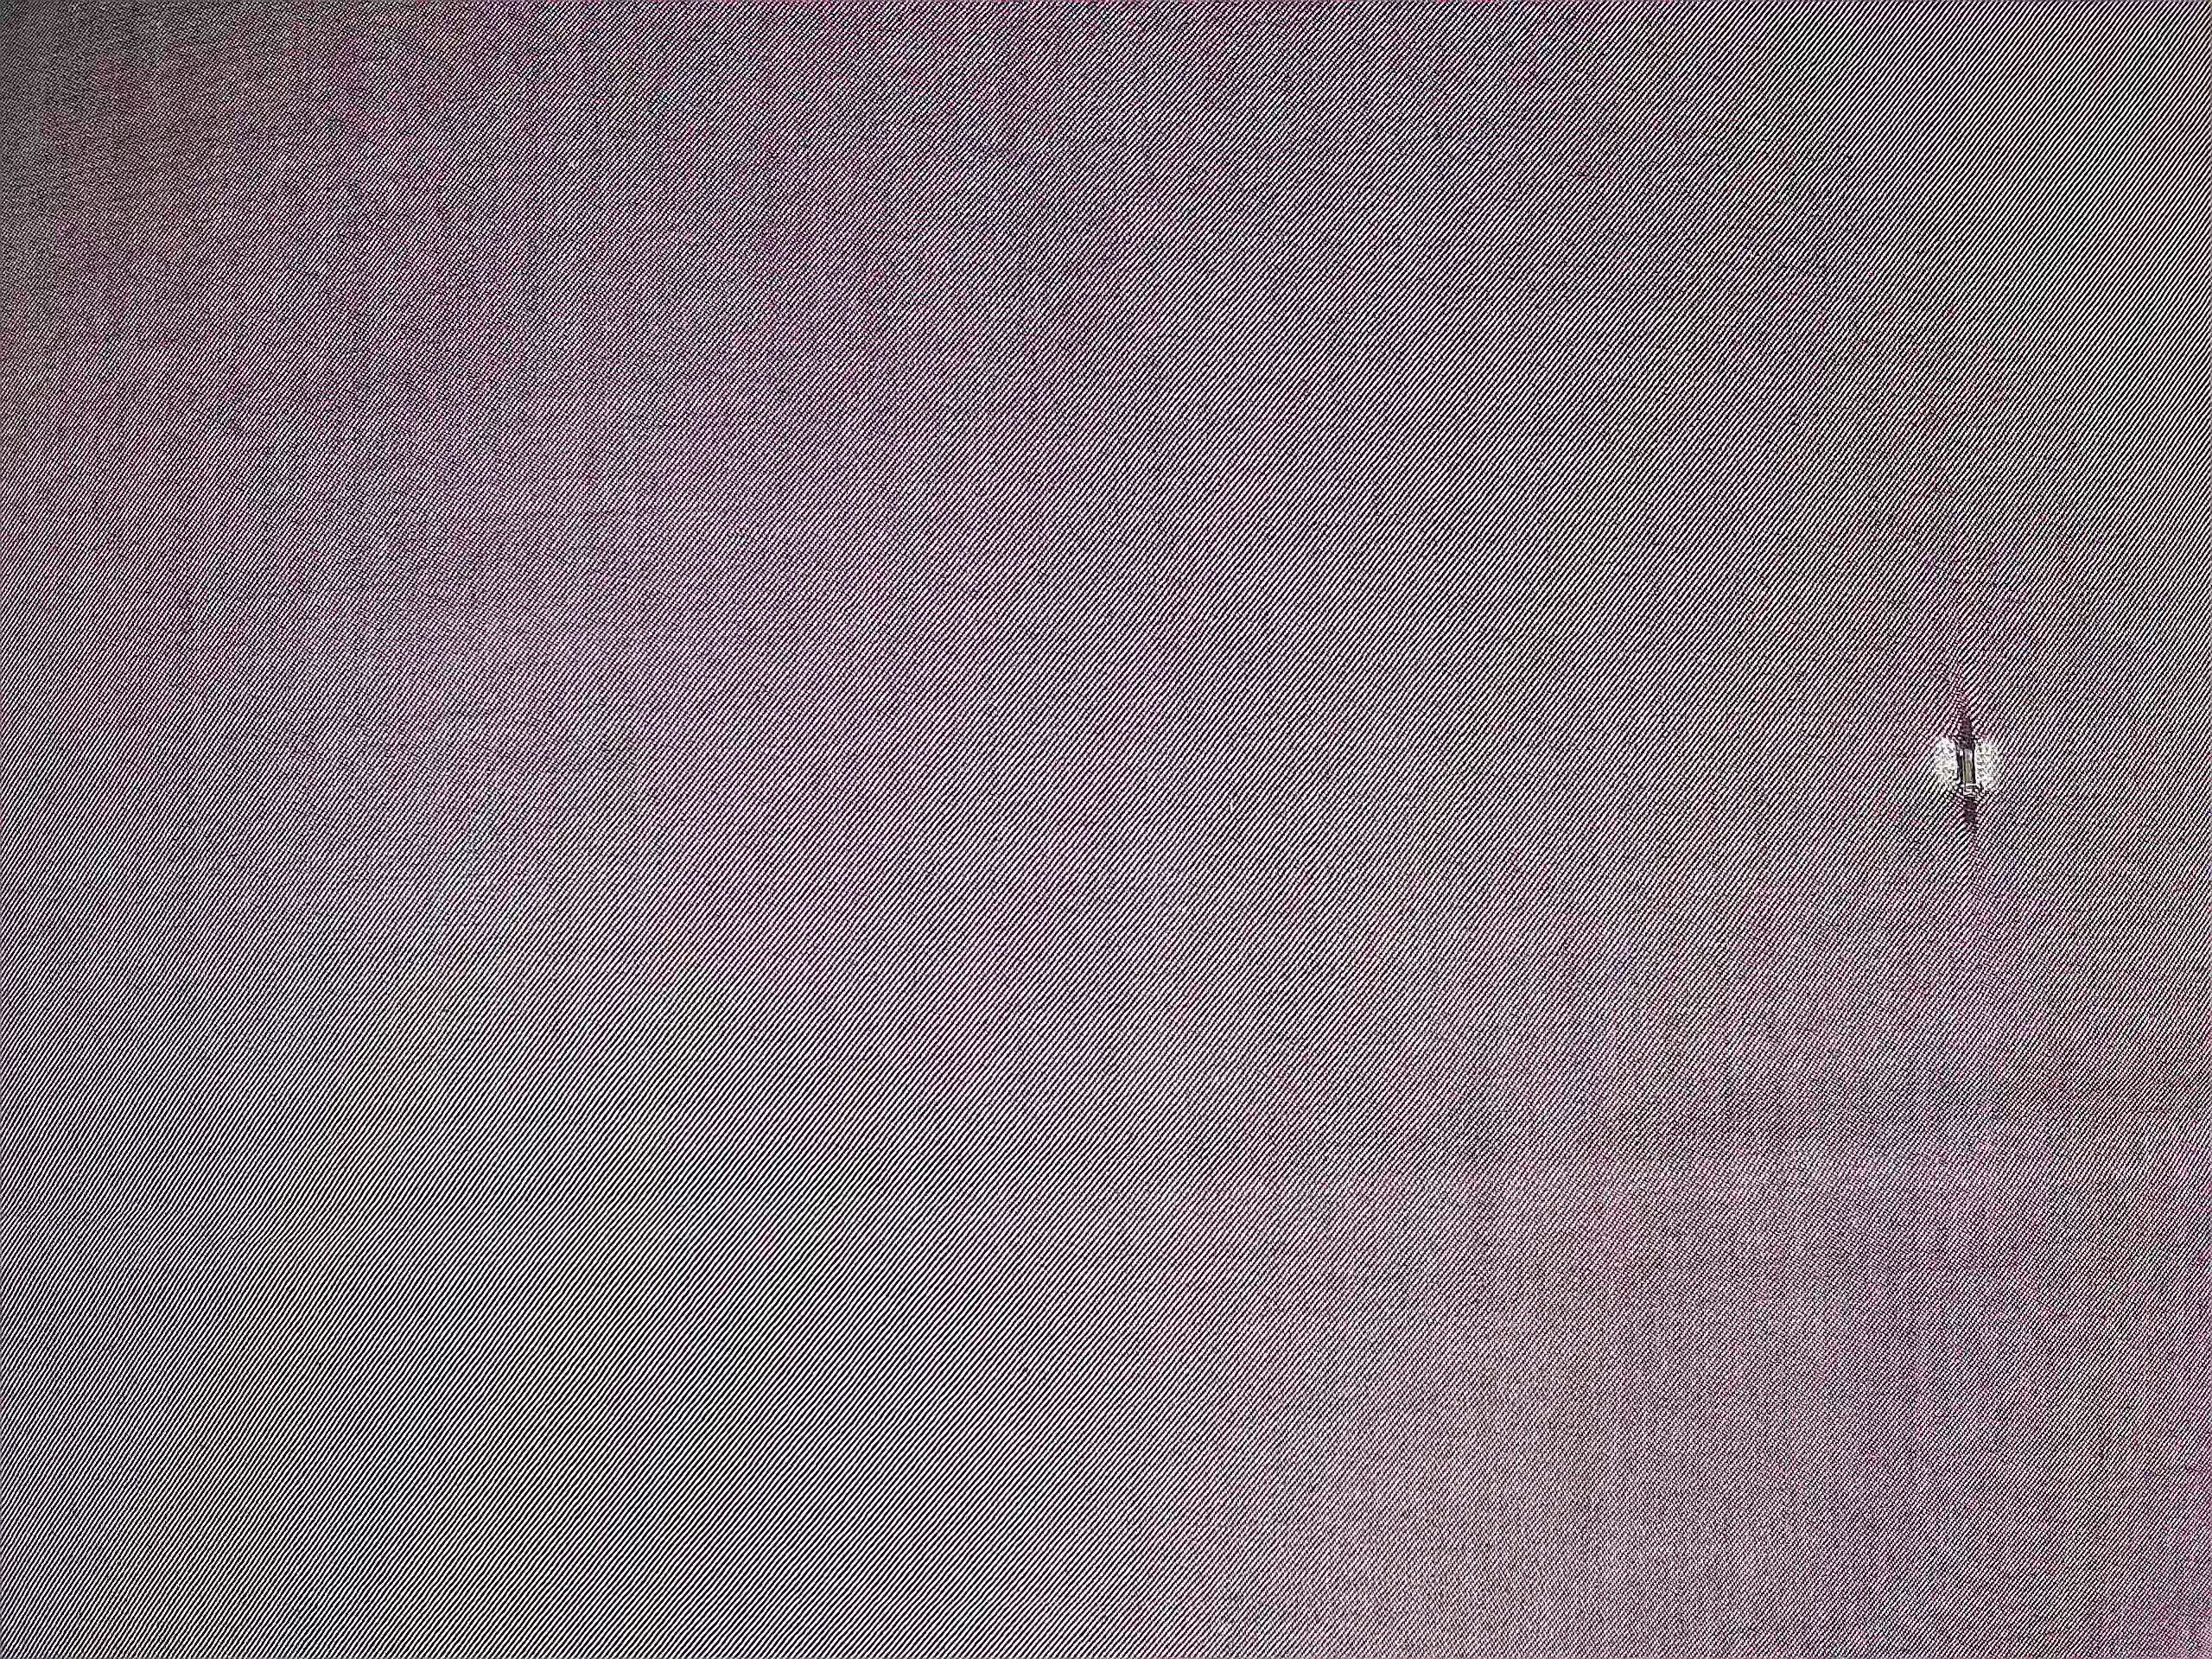rubbing-hole: (1926, 692, 2020, 850)
